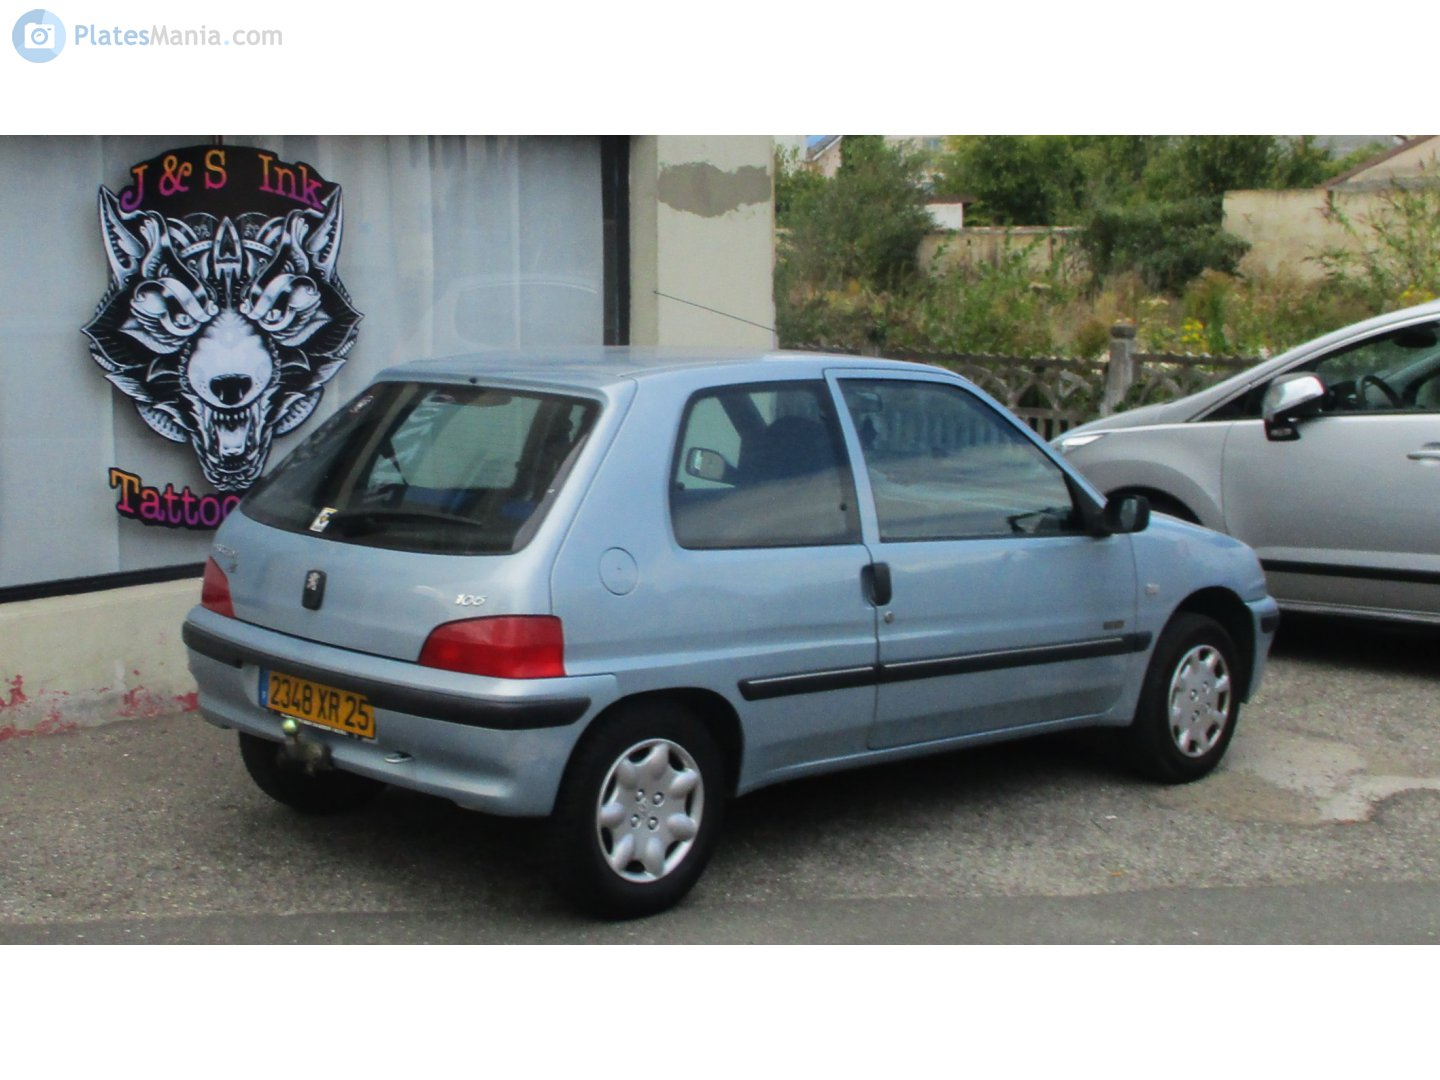licence plate: (255, 659, 377, 747)
